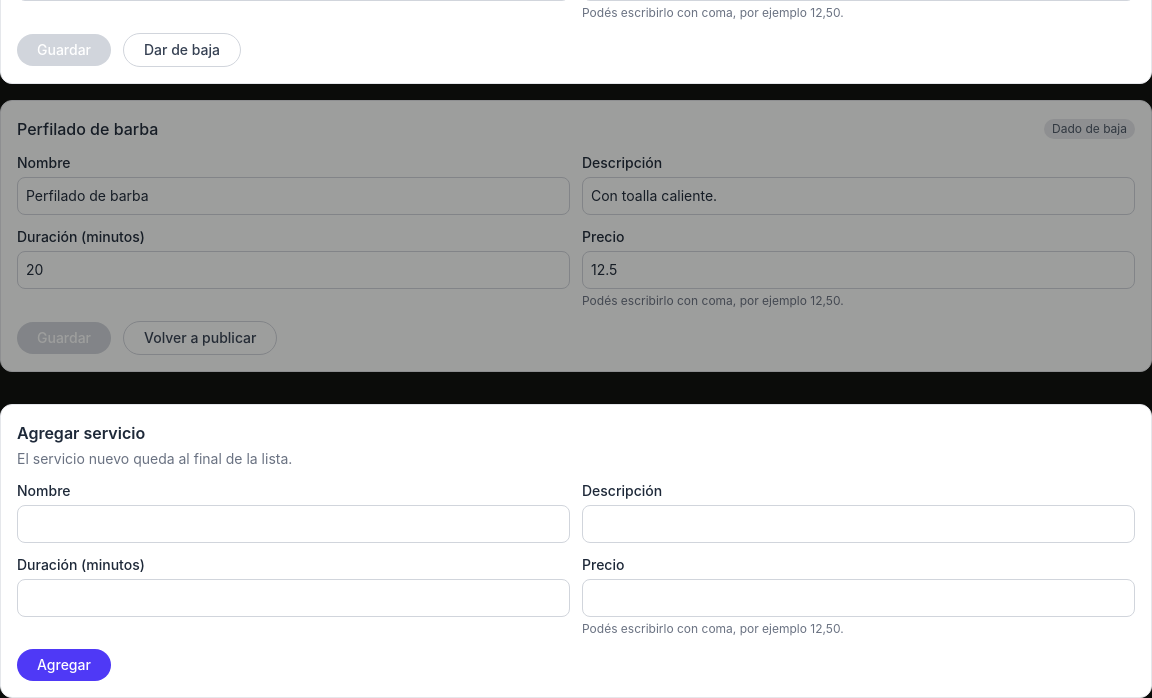
SeccionServiciosComponent › agregar un servicio › crea con los datos escritos, recarga la lista y confirma
(page scrolled)
Type "Color completo" into the field labelled "Nombre" below "Agregar servicio".
click(294, 524); type("Color completo")  # box [17,505,570,543]
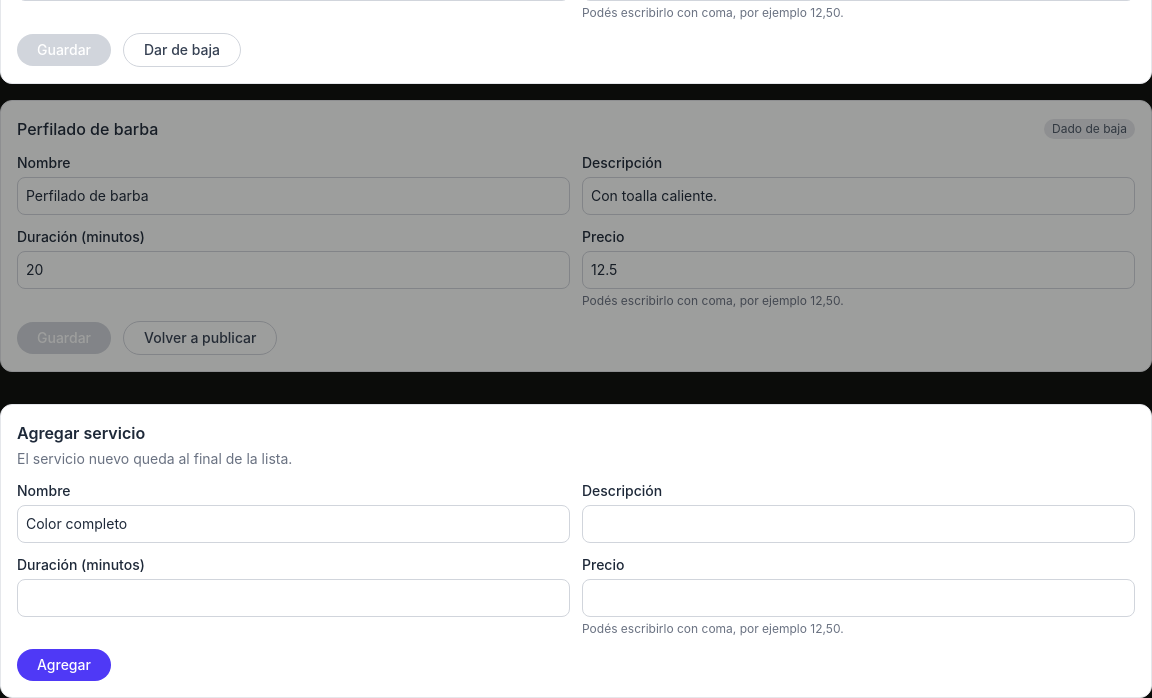
Type "Coloración y brushing." into the 2nd field labelled "Descripción".
click(858, 524); type("Coloración y brushing.")  # box [582,505,1135,543]
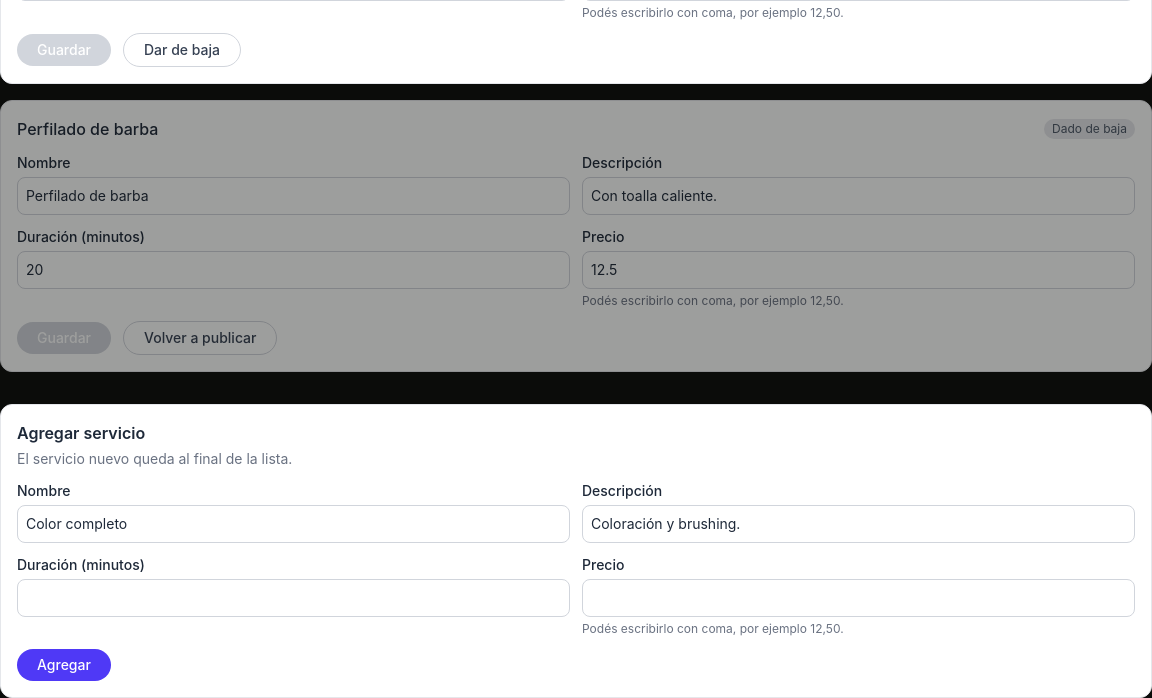
Type "90" into the field labelled "Duración (minutos)" below "Agregar servicio".
click(294, 598); type("90")  # box [17,579,570,617]
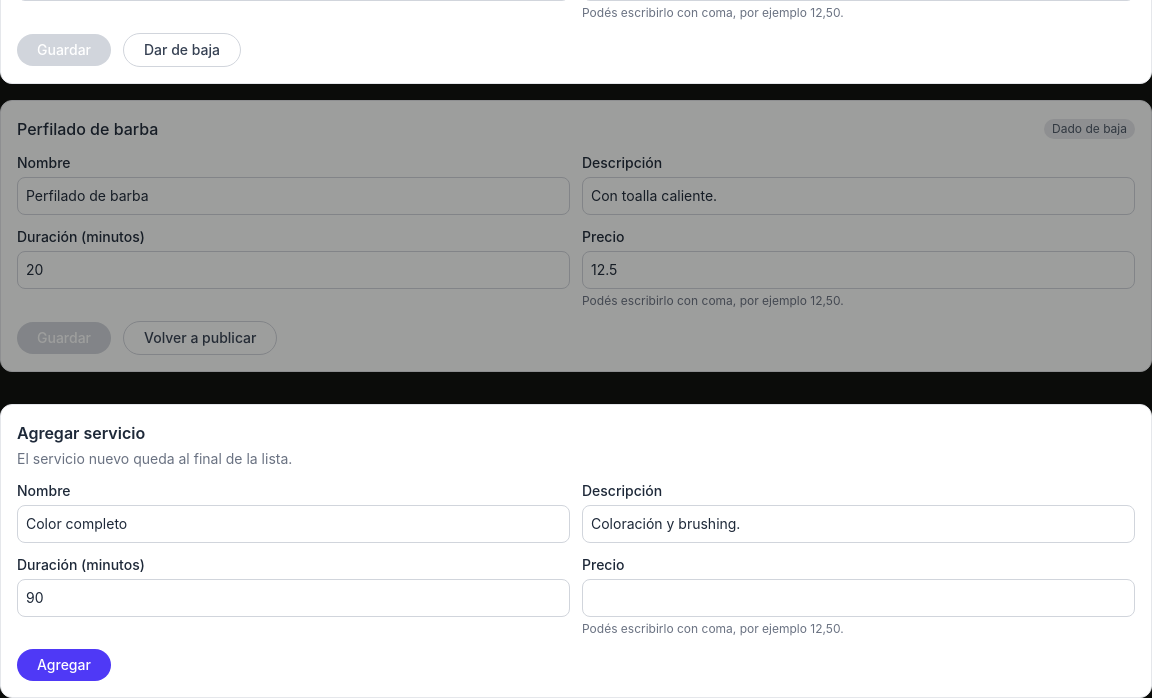
Type "42,50" into the 3rd field labelled "Precio".
click(858, 598); type("42,50")  # box [582,579,1135,617]
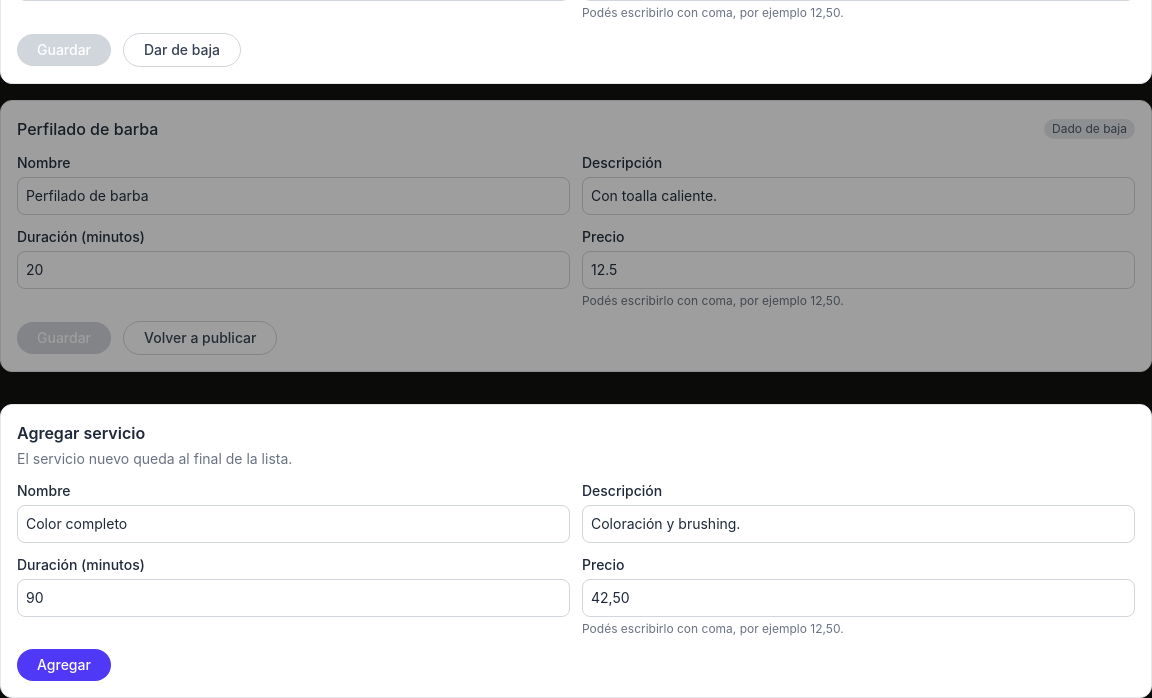
Click the button "Agregar".
click(64, 665)  # box [17,649,111,681]
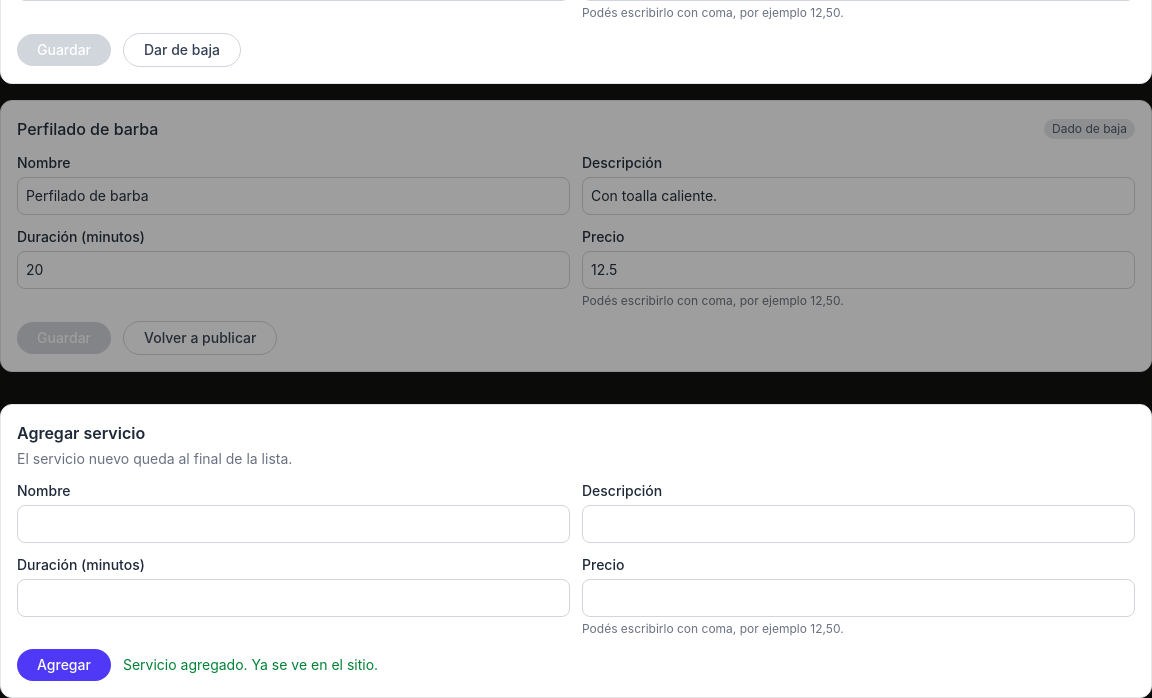
Check: the text "Servicio agregado. Ya se ve en el sitio." is shown, box [123,655,378,675]
